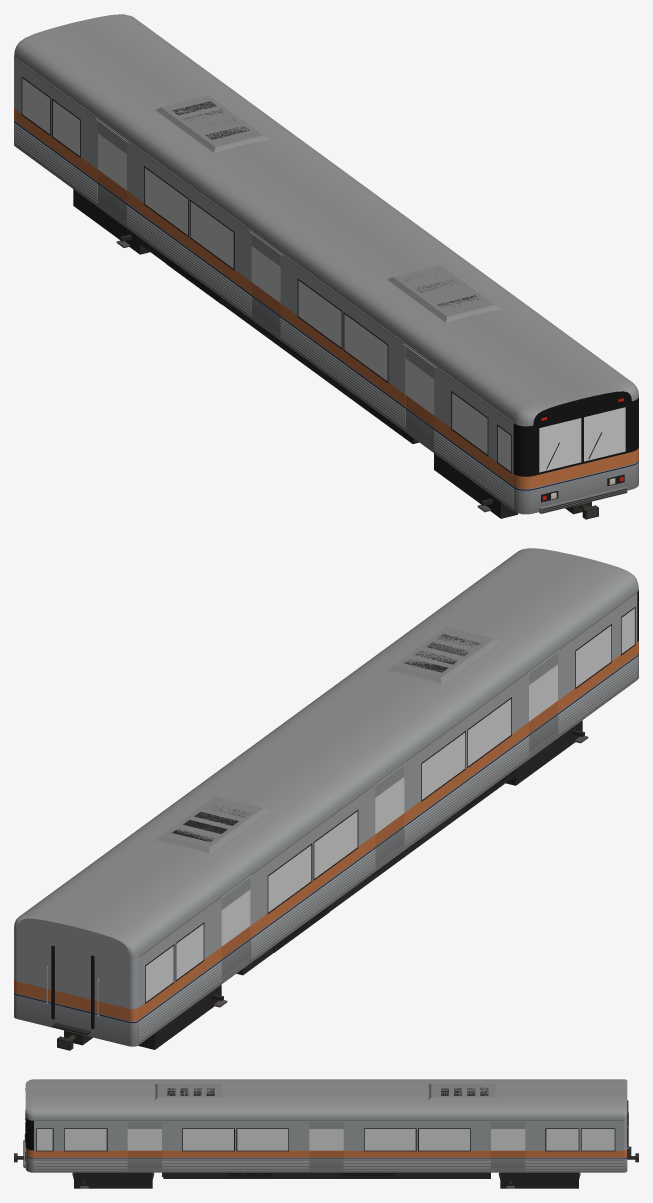
Rendered from railcar.glb.
3 views of the same model, one above another, from view 1: azimuth 30°, elevation 25°; view 2: azimuth 150°, elevation 25°; view 3: azimuth 270°, elevation 25° (orthographic). The views are drawn at different scales.
Visible parts, largest first — view 1: lod0_body, lod2_body, lod1_body; view 2: lod0_body, lod2_body, lod1_body; view 3: lod0_body, lod2_body, lod1_body, lod1_bogie_F_mesh, lod1_bogie_R_mesh.
Boxes of the visible parts, box(x1,y1,x2,y2) form: lod0_body: box(14, 14, 638, 519); lod2_body: box(22, 18, 625, 518); lod1_body: box(14, 58, 627, 513); lod0_body: box(14, 548, 638, 1050); lod2_body: box(17, 552, 634, 1049); lod1_body: box(67, 592, 637, 1046); lod0_body: box(14, 1079, 638, 1178); lod2_body: box(34, 1084, 623, 1188); lod1_body: box(18, 1100, 634, 1176); lod1_bogie_F_mesh: box(75, 1172, 151, 1178); lod1_bogie_R_mesh: box(501, 1172, 577, 1178).
Bounding box in the file's own units: 3.24 × 3.65 × 23.75.
